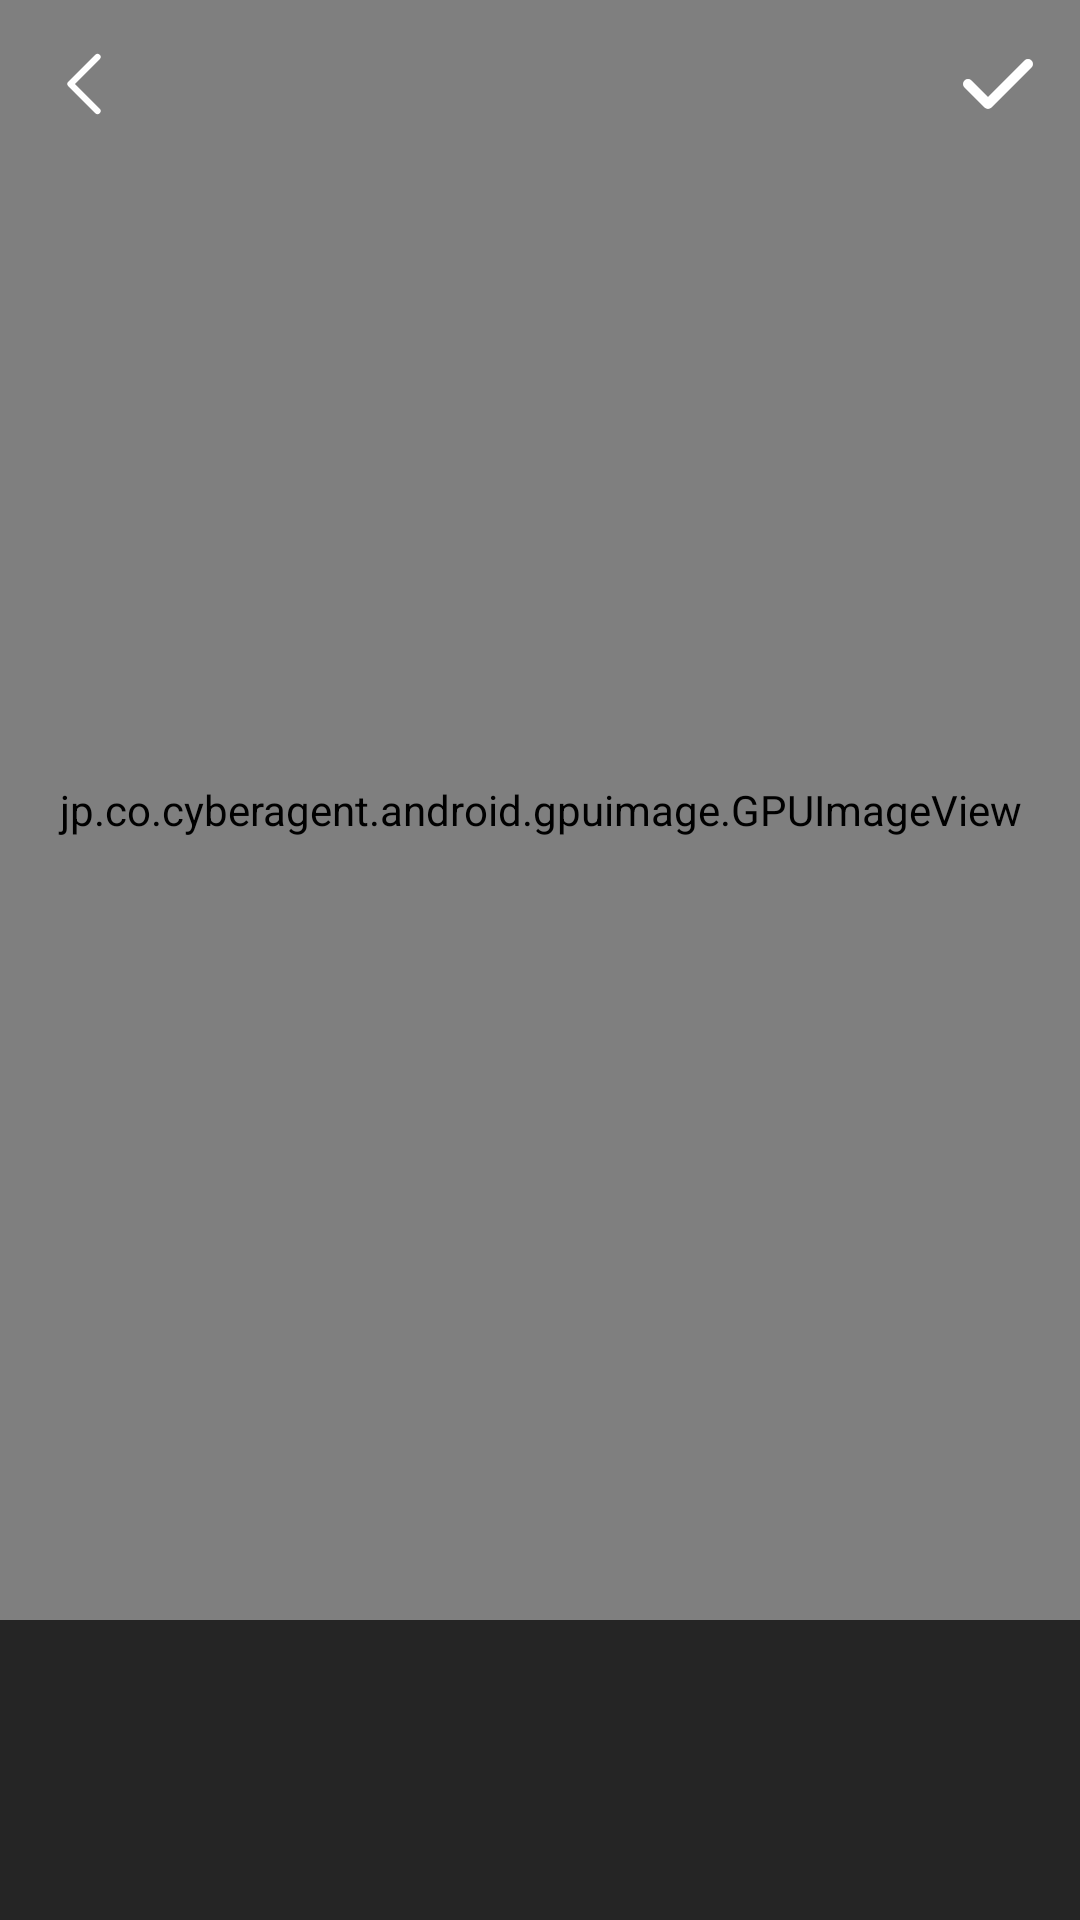

Where to tap for icons on this 1080×1920 app screen, as (x=x, y=y):
Back: (x=84, y=84)
check: (x=998, y=84)
